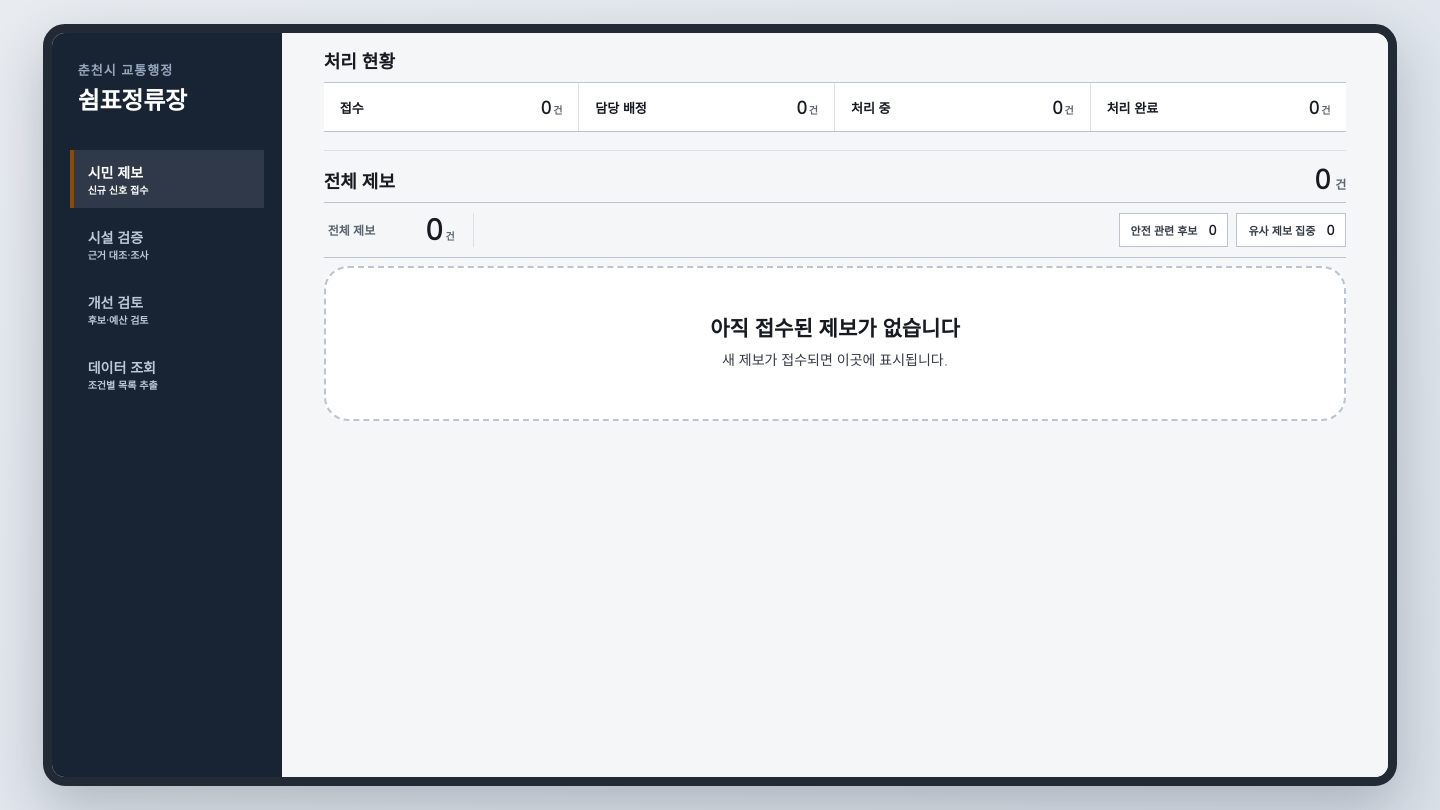
<Dashboard> — 조건 필터 탭(v1 보존) › (g) 행 클릭 시 근거 카드를 연다
This screenshot has width=1440, height=810.
Click the tab with aria-label "데이터 분석".
click(167, 374)  # box left=70, top=345, right=264, bottom=403
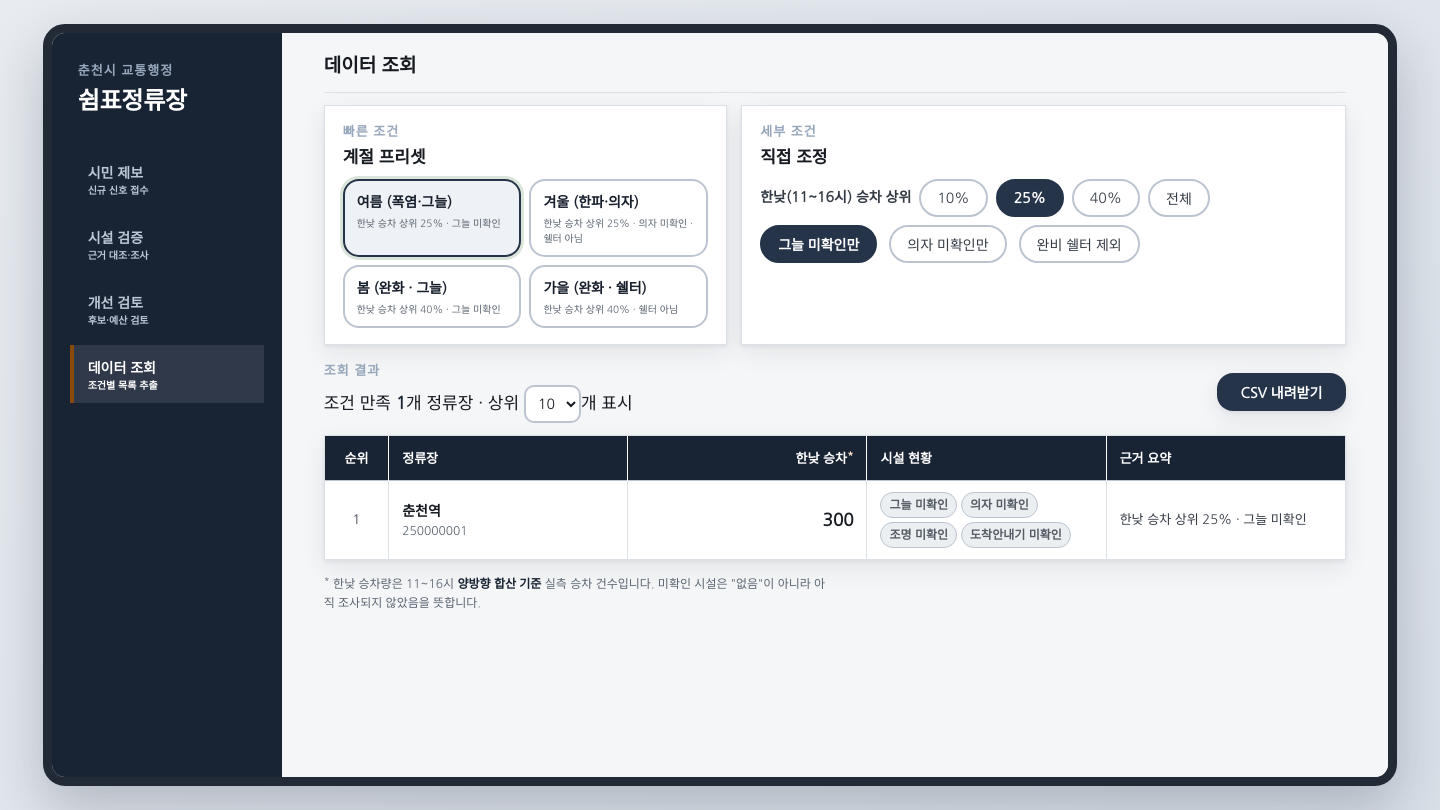
Click the text "춘천역".
click(422, 511)  # box left=402, top=504, right=441, bottom=518
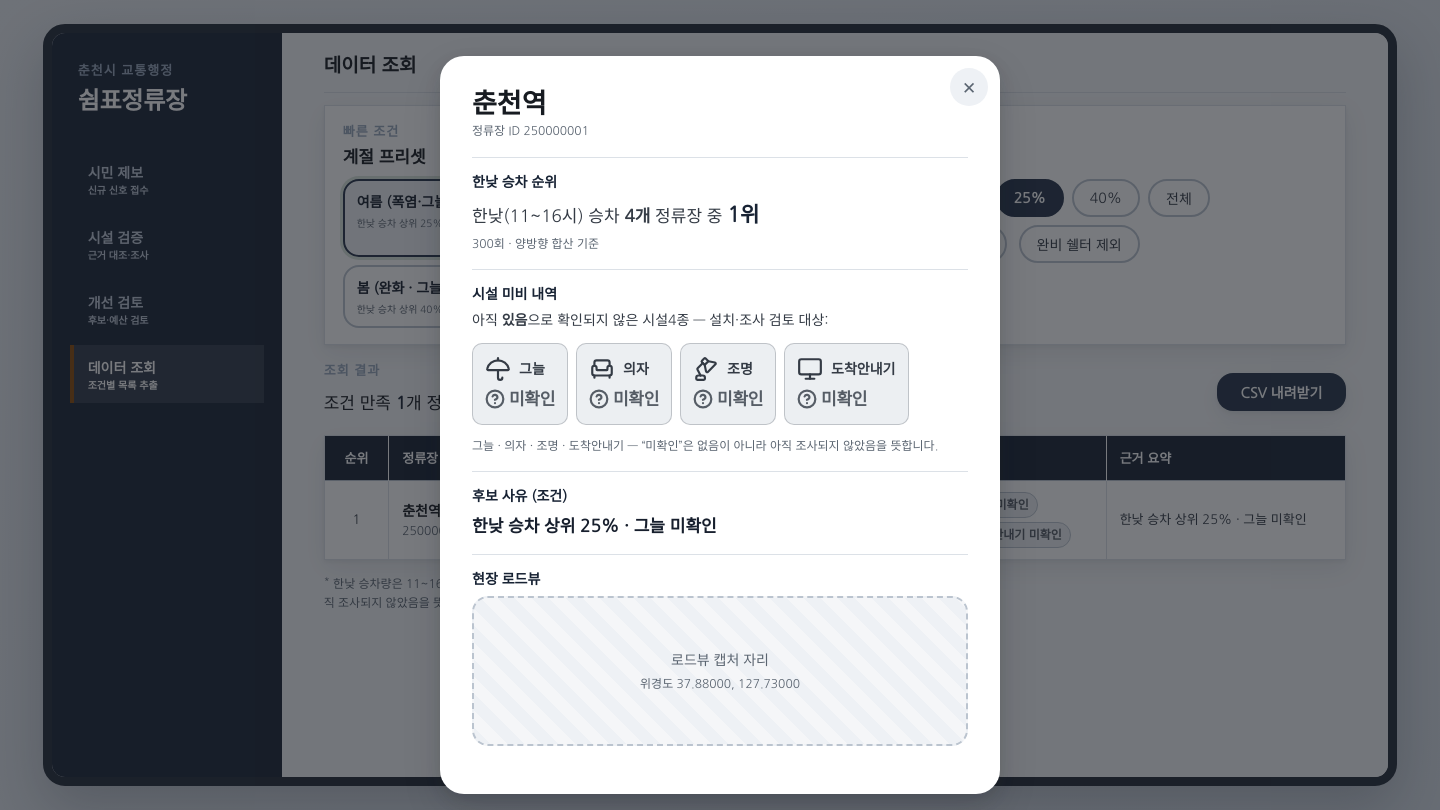
Now the heading "한낮 승차 순위" is shown, box left=472, top=175, right=557, bottom=189
Now the text "1위" is shown, box left=727, top=204, right=759, bottom=225
